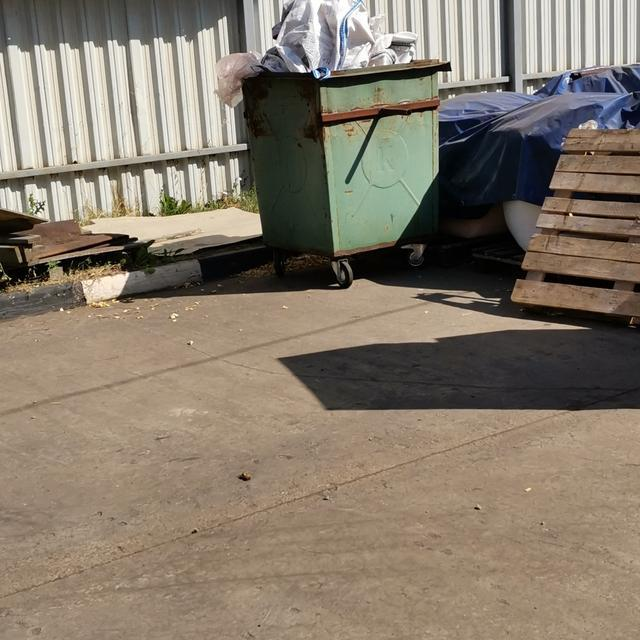Trash_Can_Full: (242, 0, 445, 256)
